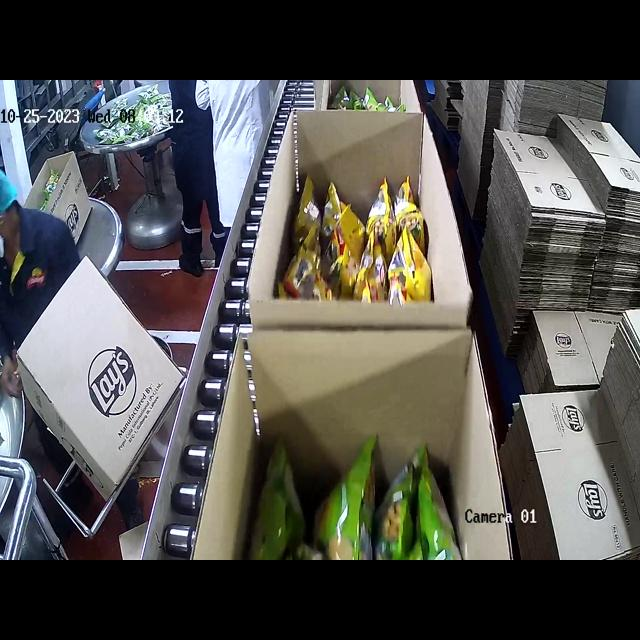salted: (302, 169, 416, 300)
yogurt: (258, 432, 456, 560)
